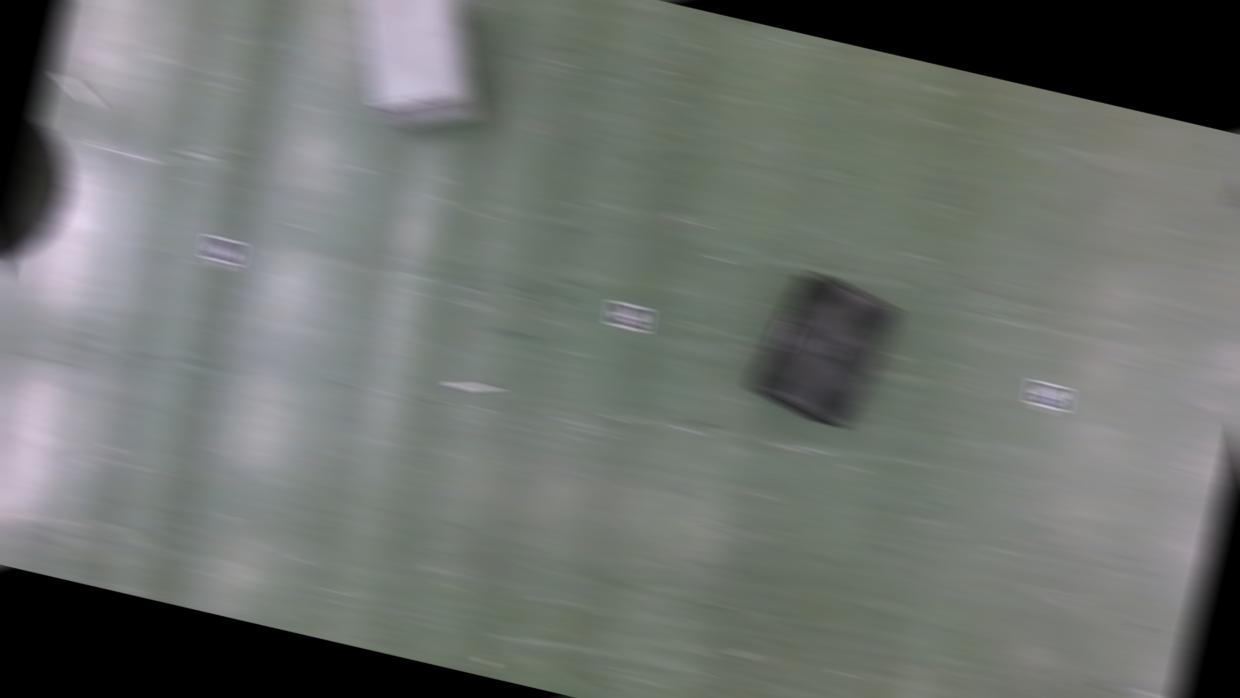probes: (51, 72, 103, 110), (450, 376, 497, 398), (1230, 167, 1240, 209)
rako: (742, 264, 904, 438), (324, 0, 509, 150)
